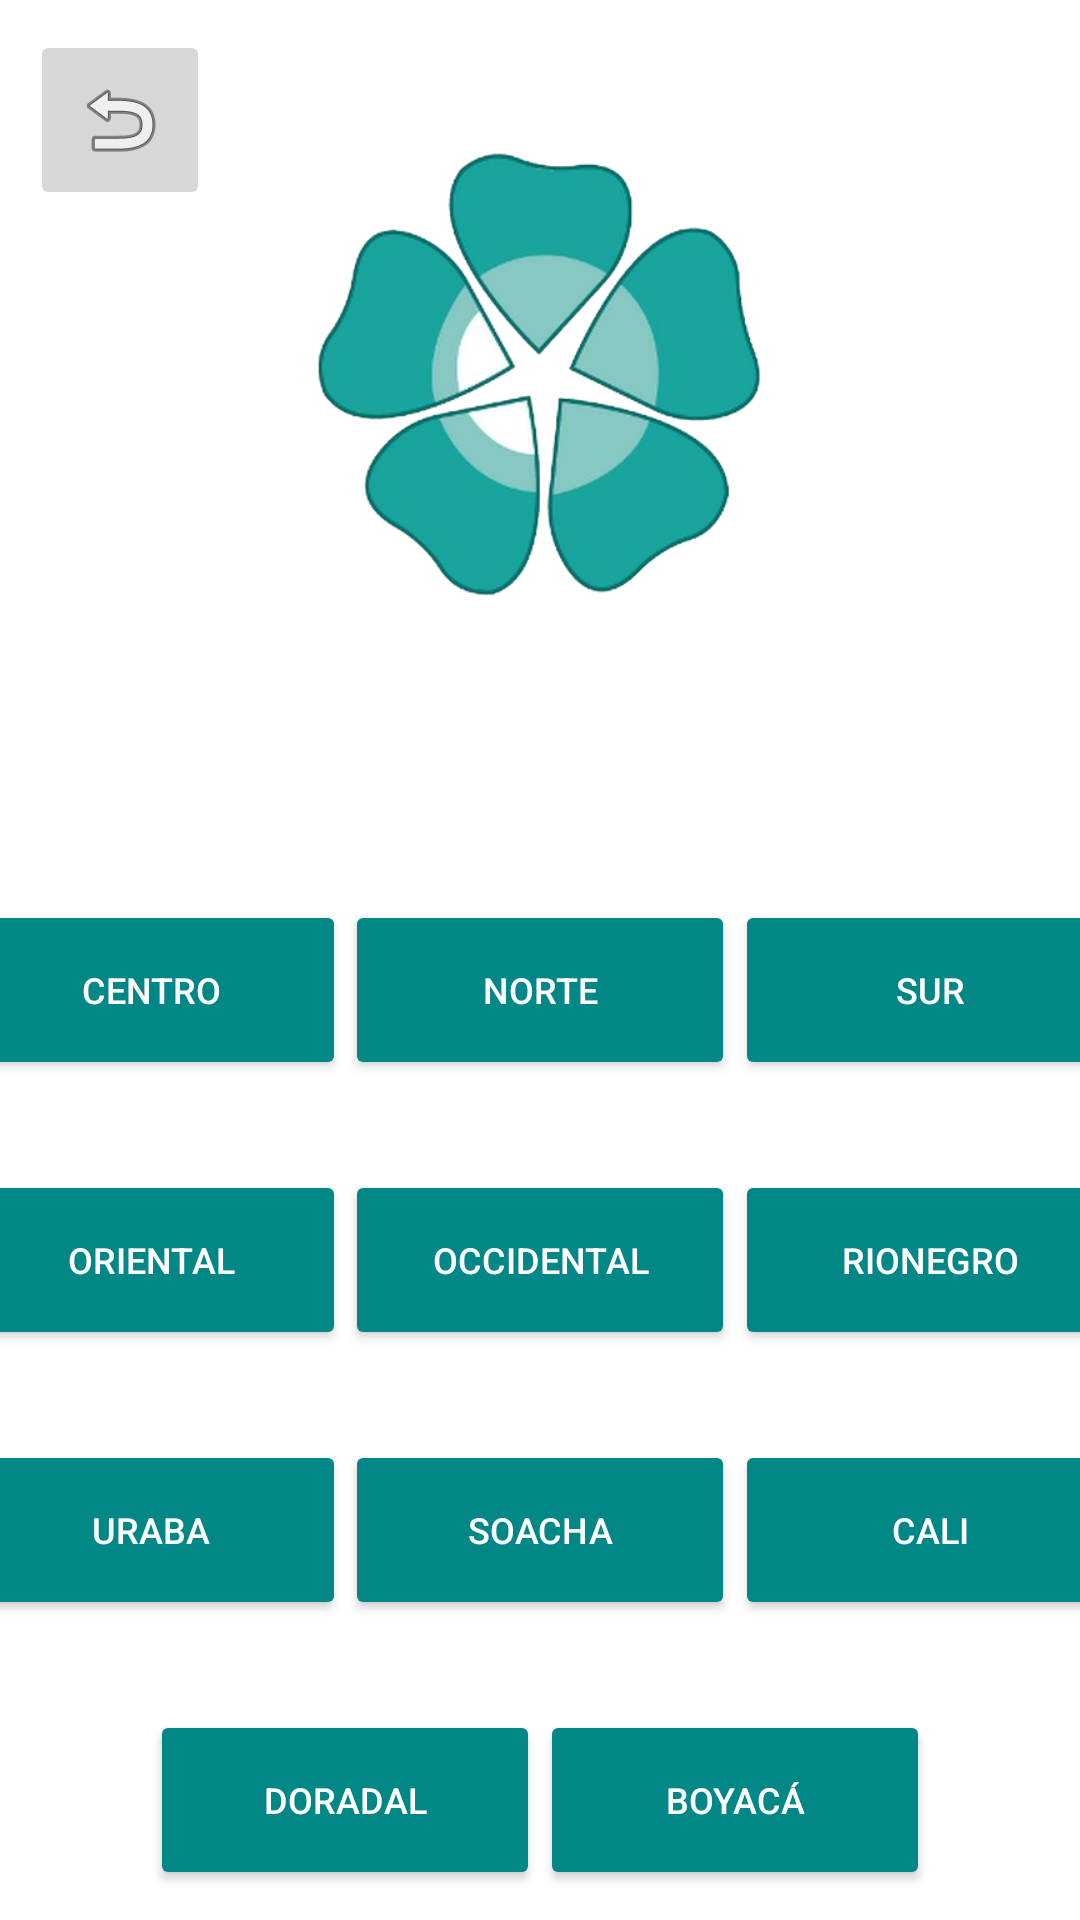

Point at icon controls on the screen. Image size 1080px×1920px, points as (x,y).
revert: (120,120)
